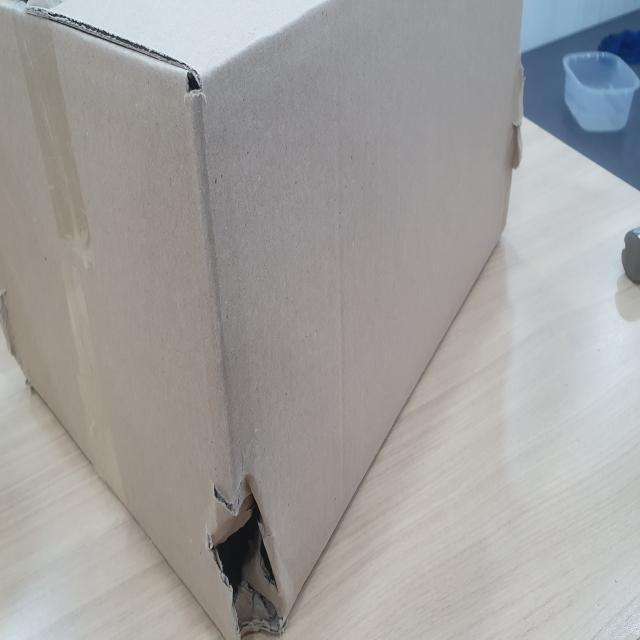hole: (202, 457, 296, 633)
